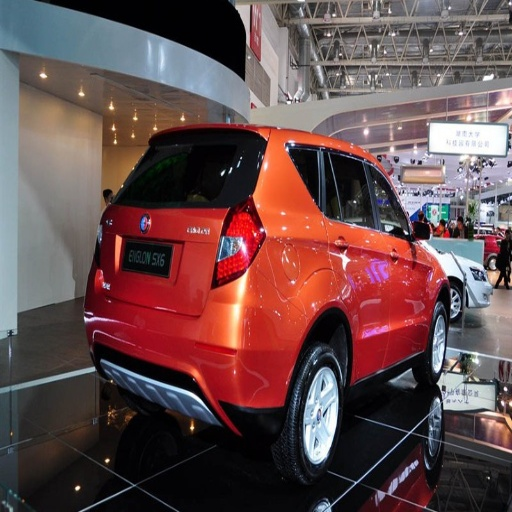back_bumper: (83, 264, 310, 439), (334, 446, 383, 481)
back_left_light: (94, 215, 118, 285)
back_right_door: (320, 145, 388, 373)
tailgate: (107, 206, 228, 313)
